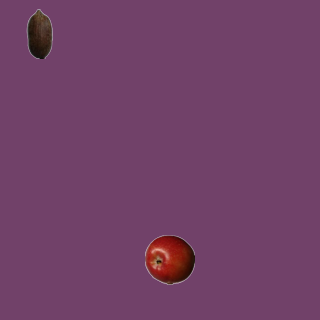Apple Braeburn: (144, 234, 194, 284)
Nut Pecan: (14, 8, 64, 58)
